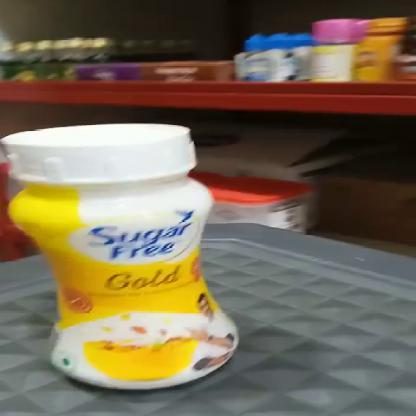SUGAR FREE GOLD POWDER 100GM: (3, 123, 244, 388)
